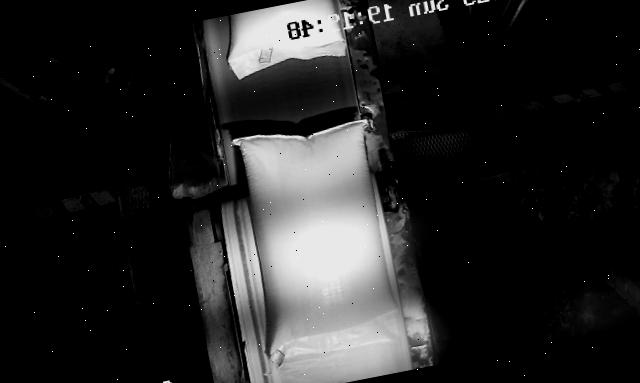bag: (223, 113, 407, 369), (220, 0, 345, 79)
